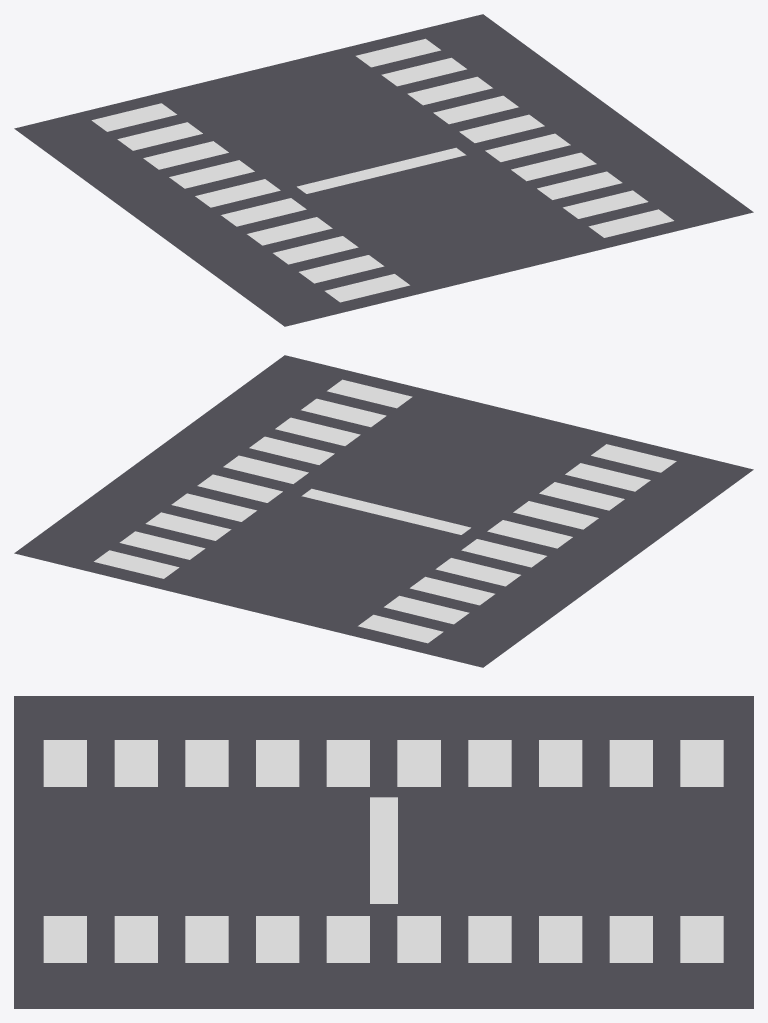
File: aft alp 2 dual zebra (test1).fbx
The picture shows the model from 3 angles, top to bottom: view 1: azimuth 30°, elevation 25°; view 2: azimuth 150°, elevation 25°; view 3: azimuth 270°, elevation 25°; orthographic projection. The views are drawn at different scales.
Parts seen in each view (by area): view 1: aft_alp_roads_2_dual_zebra; view 2: aft_alp_roads_2_dual_zebra; view 3: aft_alp_roads_2_dual_zebra.
Part boxes in pixels (box(x1,y1,x2,y2)): aft_alp_roads_2_dual_zebra: box(14, 14, 753, 326); aft_alp_roads_2_dual_zebra: box(14, 355, 753, 667); aft_alp_roads_2_dual_zebra: box(14, 696, 753, 1008).
Bounding box in the file's own units: 1000 × 0.3931 × 1000.
